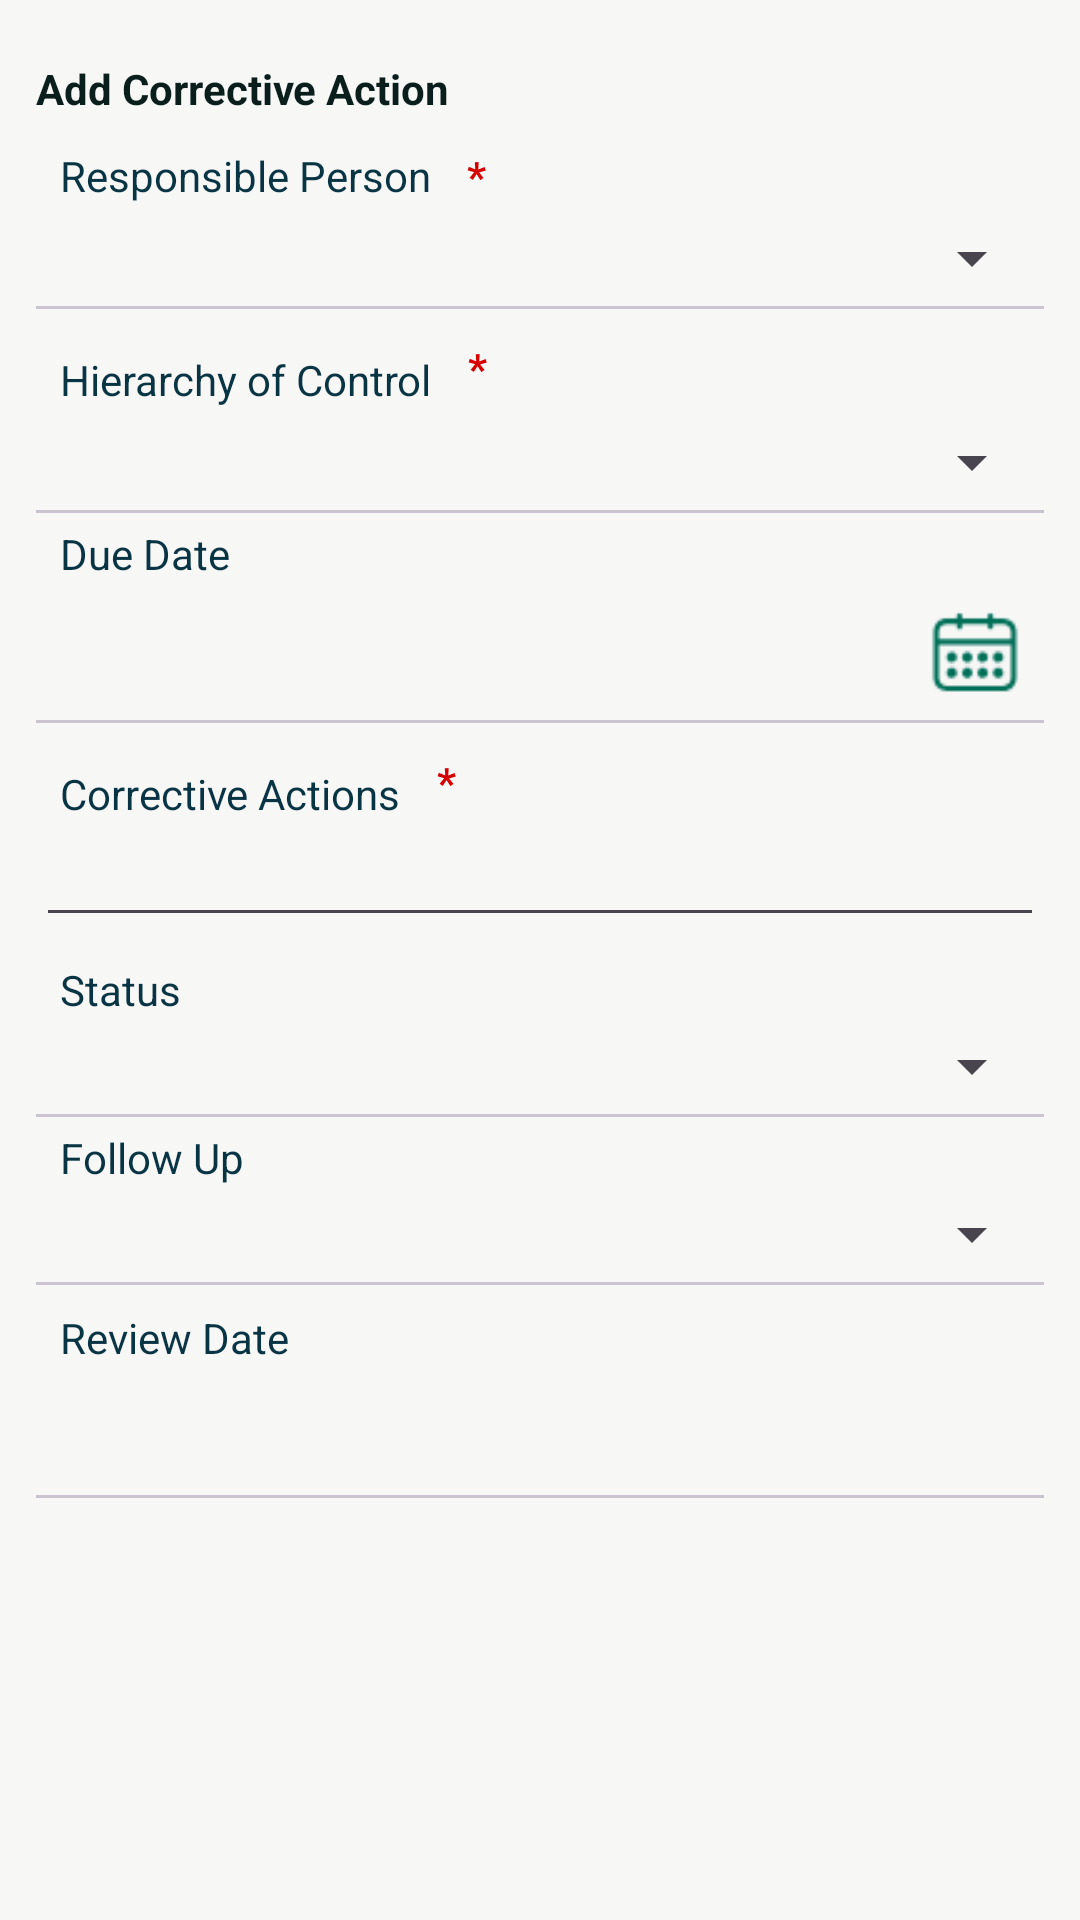

Where icons sit on this 1080w x 1920h app screen, as (x1, y1, x2, y2):
calender: (932, 613, 1018, 692)
